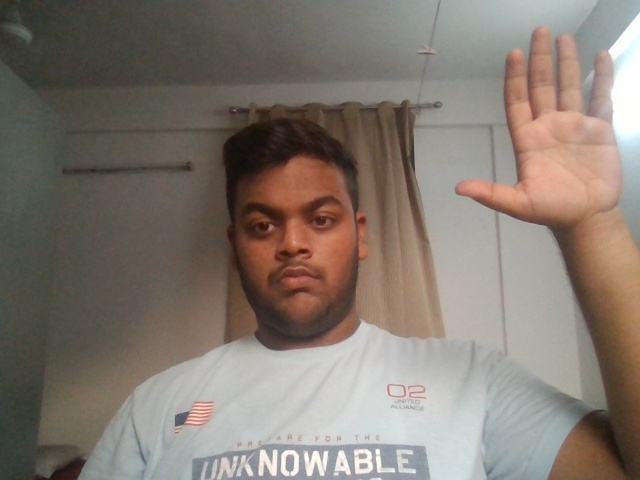Hello: (450, 13, 640, 259)
